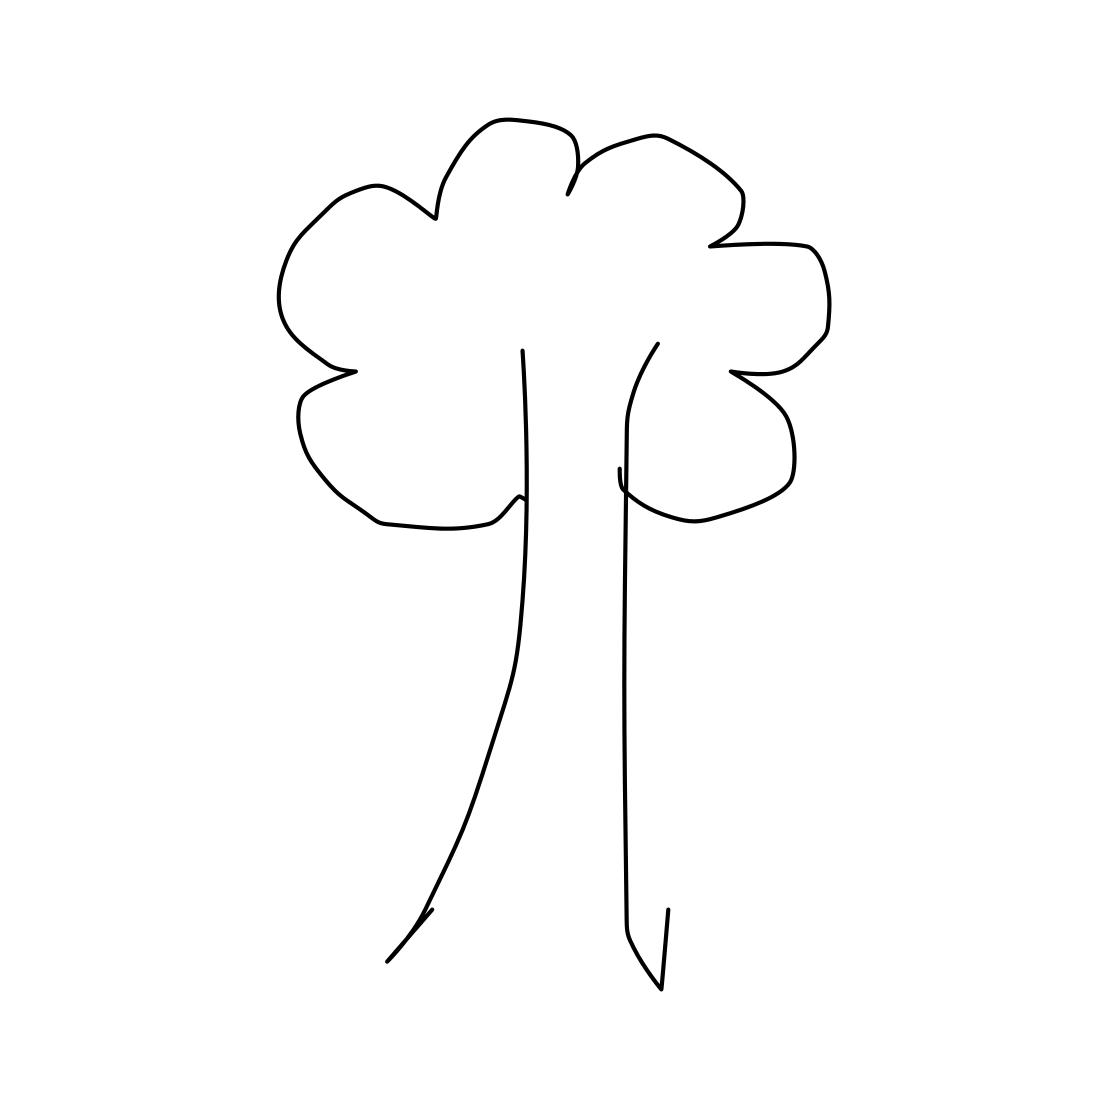Tree: (209, 109, 843, 1007)
